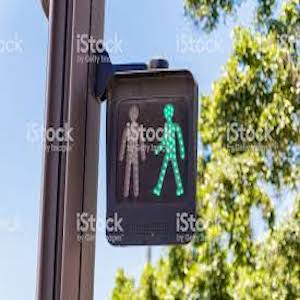green: (145, 106, 185, 200)
